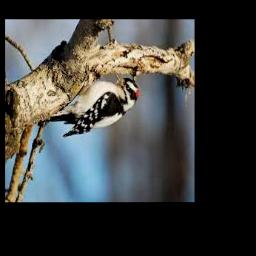Woodpecker: (38, 73, 138, 137)
